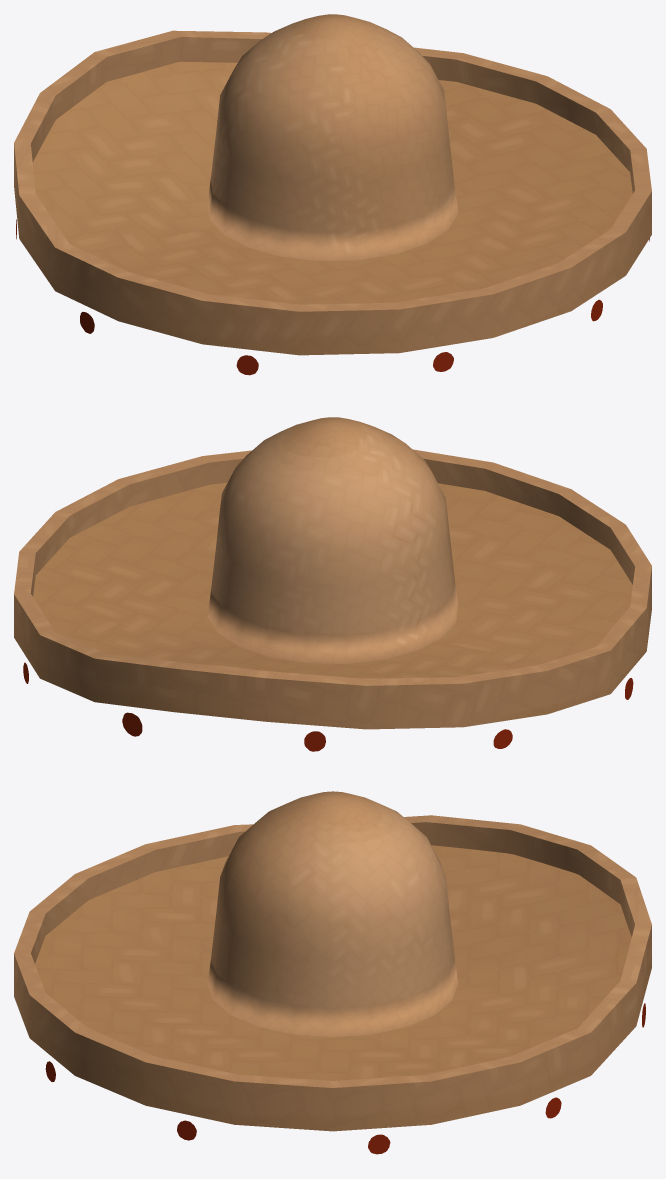
File: mod_sombrero.fbx
3 views of the same model, one above another, from view 1: azimuth 30°, elevation 25°; view 2: azimuth 150°, elevation 25°; view 3: azimuth 270°, elevation 25° (orthographic).
Visible parts, largest first — view 1: pCylinder1; view 2: pCylinder1; view 3: pCylinder1.
Part boxes in pixels (bbox=[...]): pCylinder1: bbox=[14, 14, 651, 375]; pCylinder1: bbox=[14, 417, 651, 751]; pCylinder1: bbox=[14, 791, 651, 1154].
Bounding box in the file's own units: 4.29 × 1.74 × 4.29.
